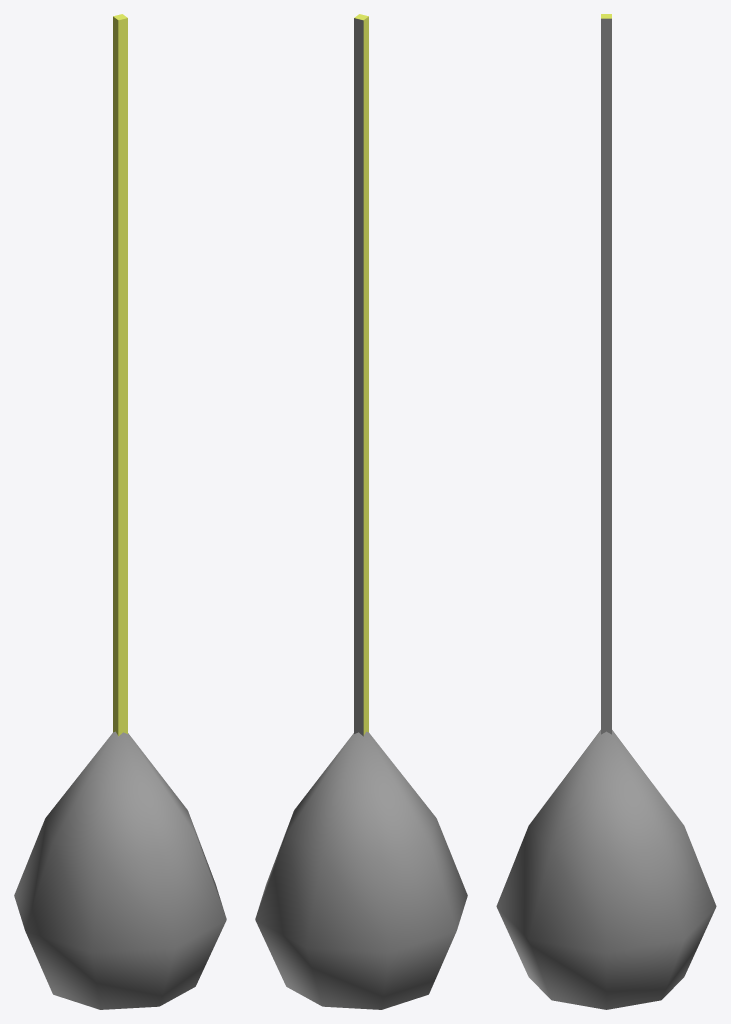
Rendered from light bulb.FBX.
3 renders of one model, left to right at view 1: azimuth 30°, elevation 25°; view 2: azimuth 150°, elevation 25°; view 3: azimuth 270°, elevation 25°, orthographic.
Visible parts, largest first — view 1: bulp; view 2: bulp; view 3: bulp.
Boxes of the visible parts, x1,y1,x2,y2 form: bulp: (14, 14, 226, 1009); bulp: (255, 14, 467, 1009); bulp: (496, 14, 716, 1009).
Bounding box in the file's own units: 10 × 49.61 × 10.
